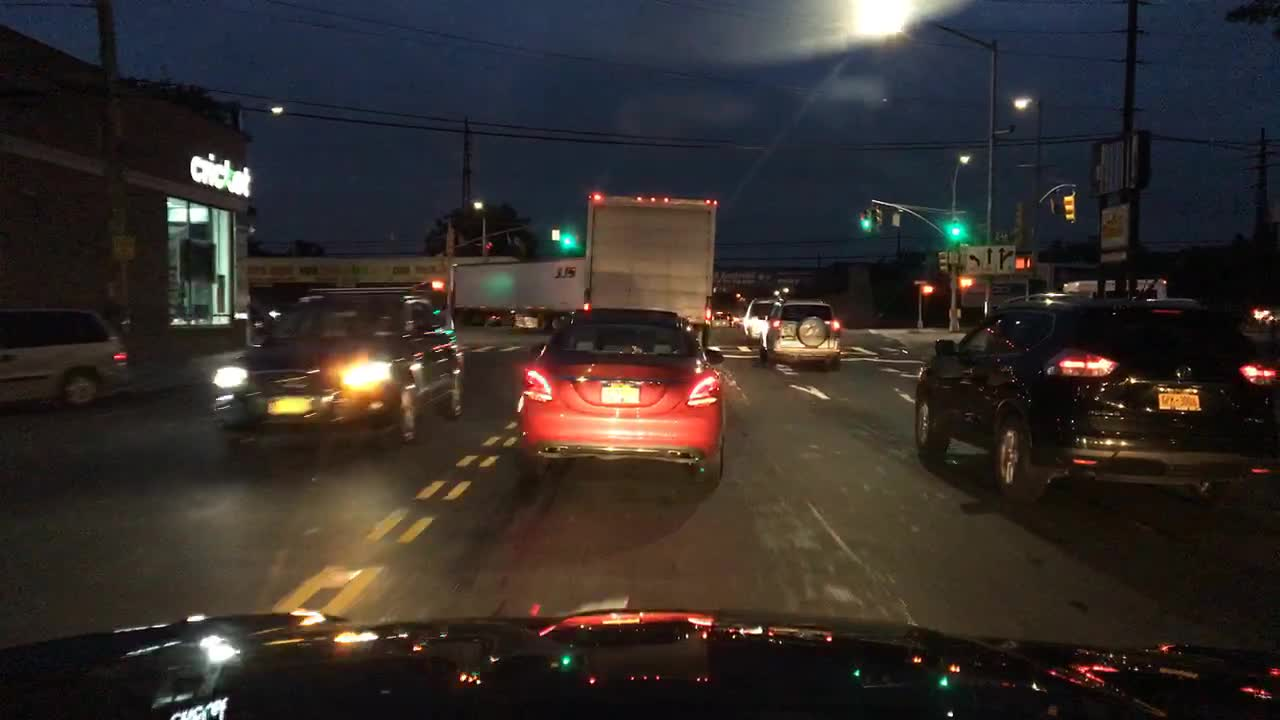car: (912, 286, 1277, 519), (210, 280, 466, 461), (516, 305, 730, 492), (0, 307, 130, 412), (763, 296, 843, 373), (1239, 301, 1277, 353), (739, 296, 779, 345), (510, 308, 544, 330), (733, 296, 752, 327), (711, 307, 733, 329), (483, 308, 503, 327)
traffic light: (1013, 201, 1026, 239), (1060, 192, 1073, 222), (1013, 251, 1032, 270), (935, 249, 948, 276), (956, 275, 978, 290), (445, 227, 456, 253), (872, 207, 884, 228), (950, 219, 961, 237), (564, 233, 576, 249), (482, 235, 495, 249), (858, 216, 869, 231), (921, 282, 933, 294)
traffic sign: (965, 244, 1017, 274), (110, 236, 138, 257), (549, 226, 562, 243), (889, 209, 901, 226)
truck: (586, 189, 719, 351), (1063, 277, 1169, 300)
